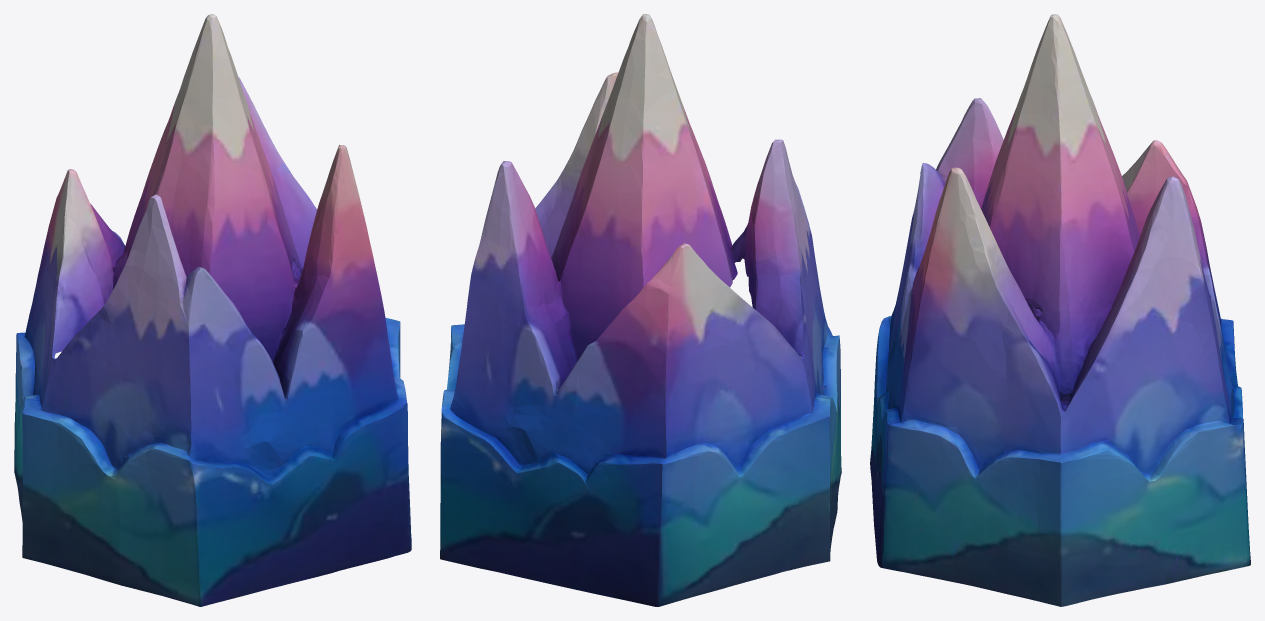
3 views of the same model, side by side, from view 1: azimuth 30°, elevation 25°; view 2: azimuth 150°, elevation 25°; view 3: azimuth 270°, elevation 25° (orthographic).
Parts seen in each view (by area): view 1: world; view 2: world; view 3: world.
Part boxes in pixels (<box>): world: <box>14,14,411,606</box>; world: <box>440,14,841,606</box>; world: <box>870,14,1250,606</box>.
Bounding box in the file's own units: 0.7941 × 0.9986 × 0.692.
1 material, 1 textured.
